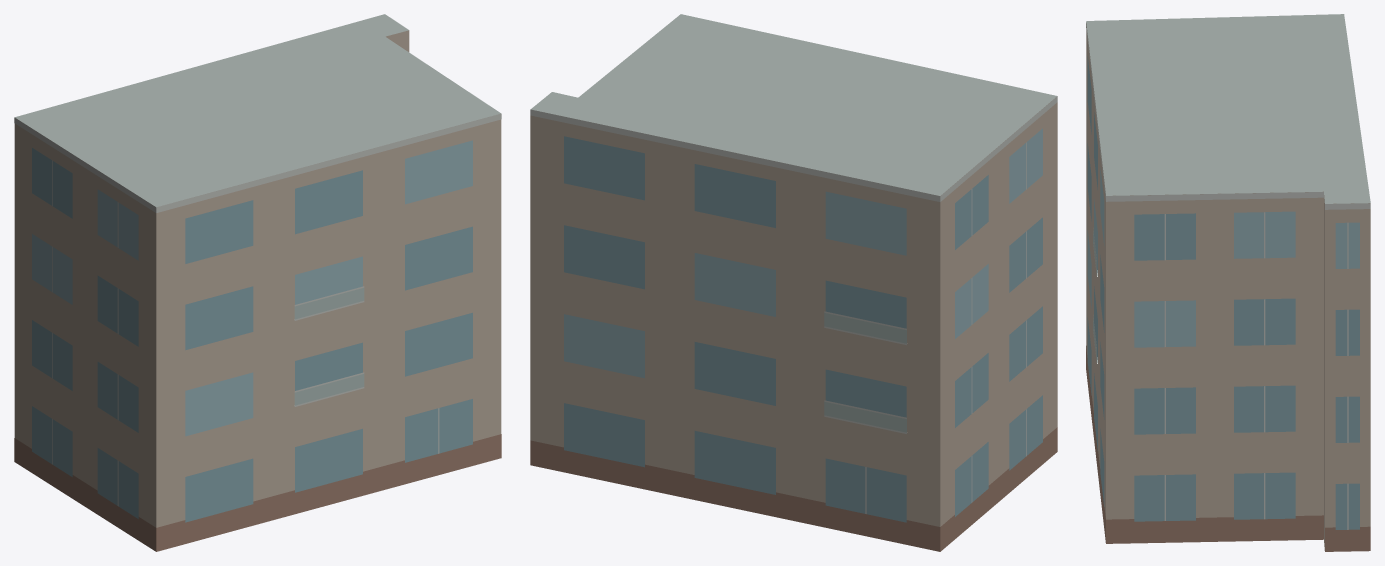
File: survey-upis-32992458.glb
The picture shows the model from 3 angles, left to right: view 1: azimuth 30°, elevation 25°; view 2: azimuth 150°, elevation 25°; view 3: azimuth 270°, elevation 25°; orthographic projection. The views are drawn at different scales.
Visible parts, largest first — view 1: survey-upis-32992458.tmp; view 2: survey-upis-32992458.tmp; view 3: survey-upis-32992458.tmp.
Part boxes in pixels (x1,y1,x2,y2): survey-upis-32992458.tmp: (14,14,501,551); survey-upis-32992458.tmp: (530,14,1057,551); survey-upis-32992458.tmp: (1086,14,1370,551).
Size of the model in its own units: 16.75 by 14.3 by 10.61.
